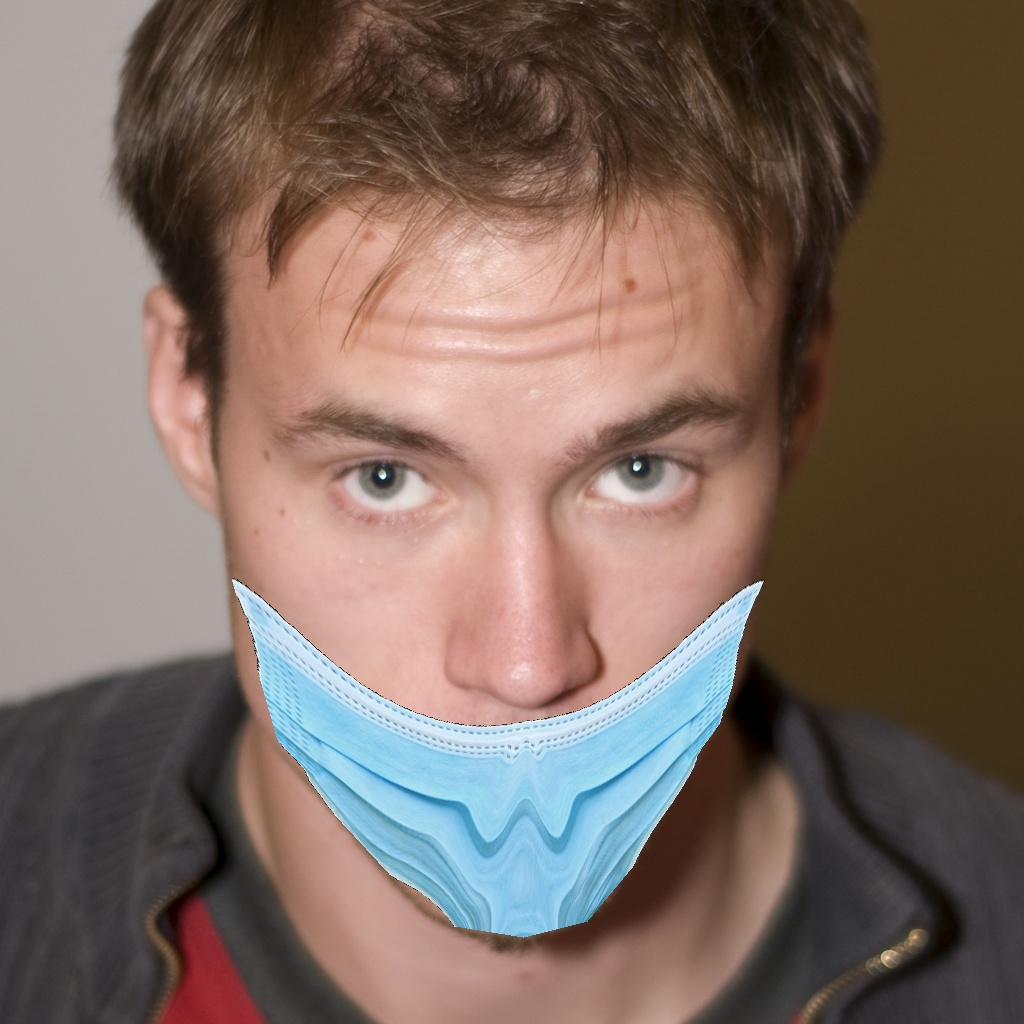Mask_Mouth_Chin: (228, 391, 798, 941)
